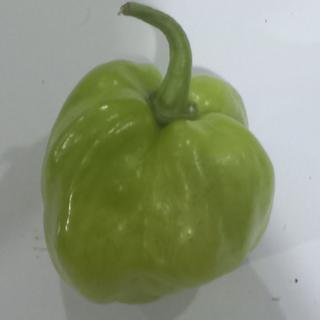Grade-B: (36, 54, 277, 308)
